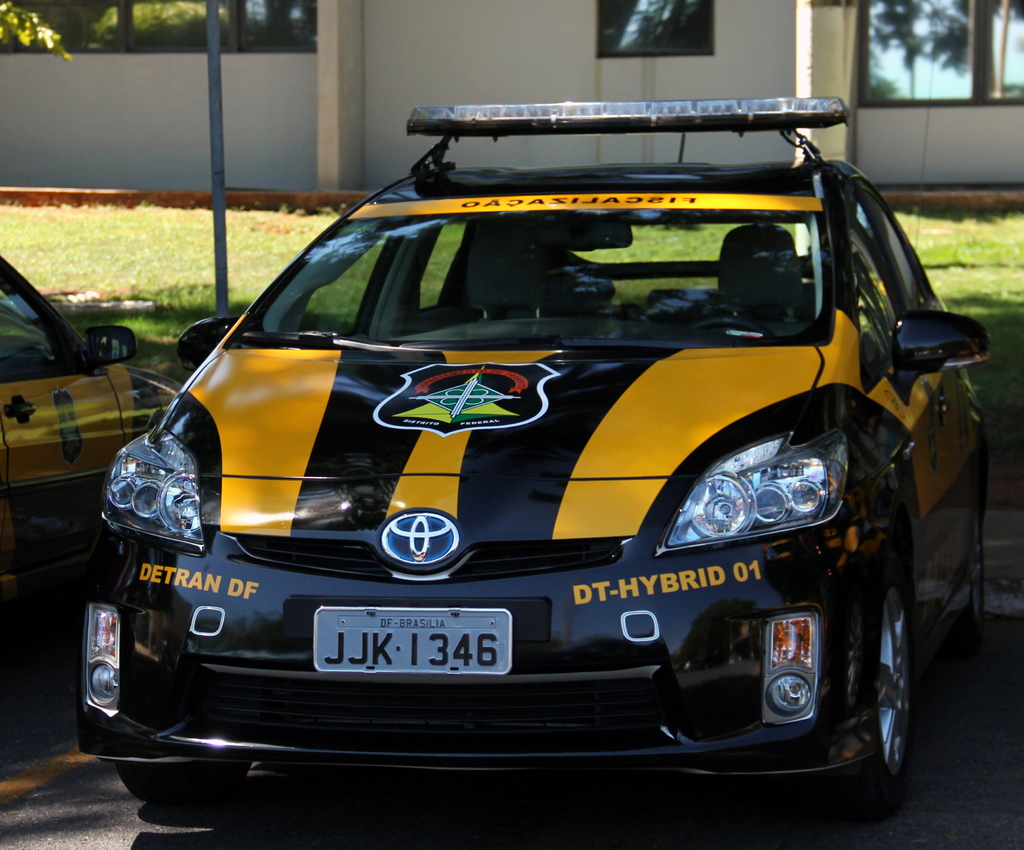Car: (76, 96, 988, 816), (0, 252, 183, 604)
